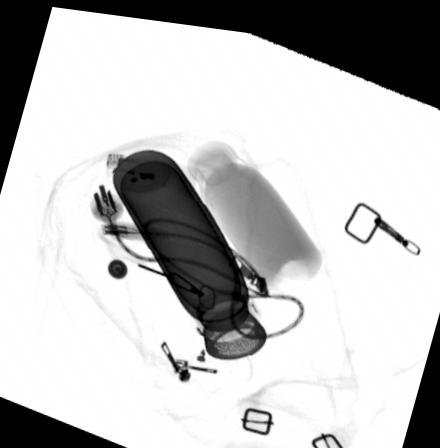Lighter: (104, 149, 164, 185)
